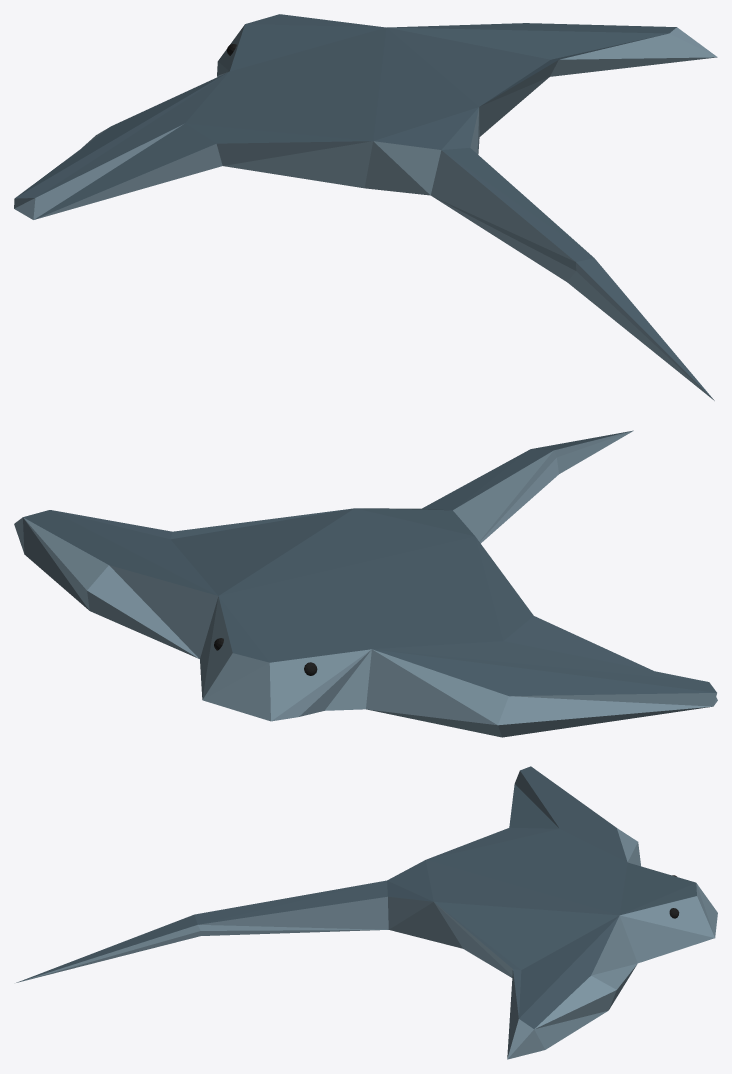
Rendered from Eagle ray.glb.
The picture shows the model from 3 angles, top to bottom: view 1: azimuth 30°, elevation 25°; view 2: azimuth 150°, elevation 25°; view 3: azimuth 270°, elevation 25°; orthographic projection. The views are drawn at different scales.
Visible parts, largest first — view 1: Node; view 2: Node; view 3: Node.
Boxes of the visible parts, bbox=[...] form: Node: bbox=[14, 14, 717, 400]; Node: bbox=[14, 430, 717, 737]; Node: bbox=[16, 766, 717, 1059].
Size of the model in its own units: 1.18 by 0.1735 by 1.25.
